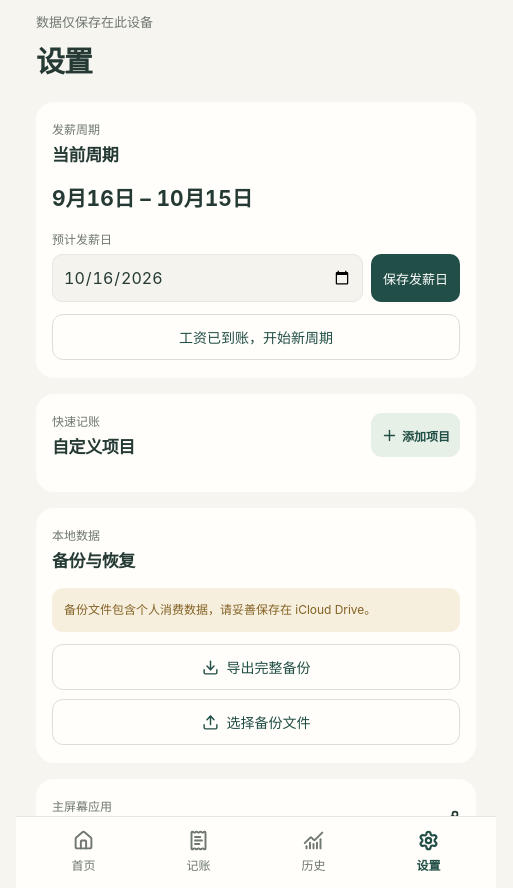
Test: edits the expected payday and opens an early new-cycle form
Expected: the heading "设置" is shown, [36, 44, 92, 79]
Expected: the text "9月16日 – 10月15日" is shown, [52, 186, 253, 211]
In the date field labelled "预计发薪日": (208, 278) [52, 254, 363, 302], type "2026-10-18"
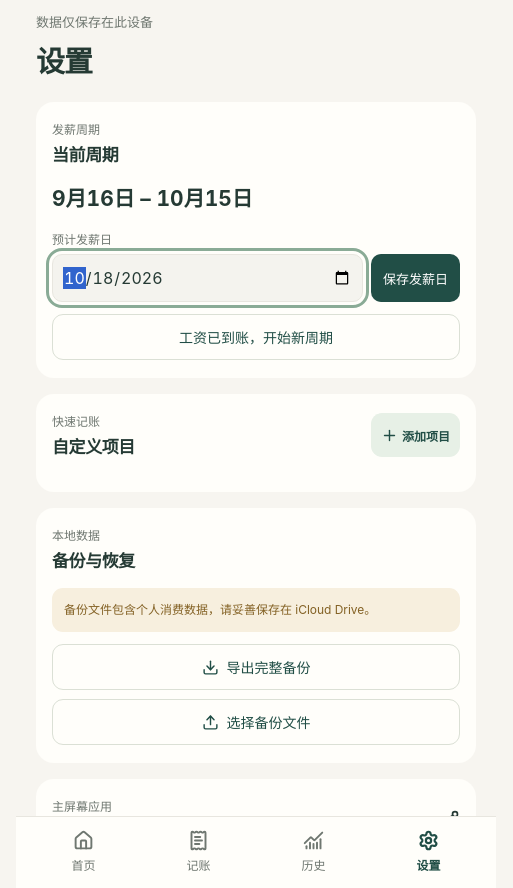
Click the button "保存发薪日": click(416, 278) [371, 254, 460, 302]
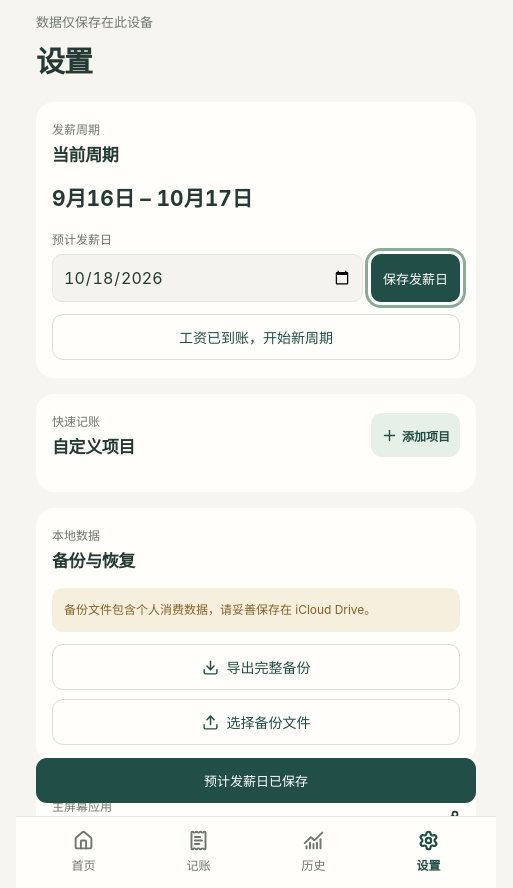
Click the button "工资已到账，开始新周期": click(256, 337) [52, 314, 460, 360]
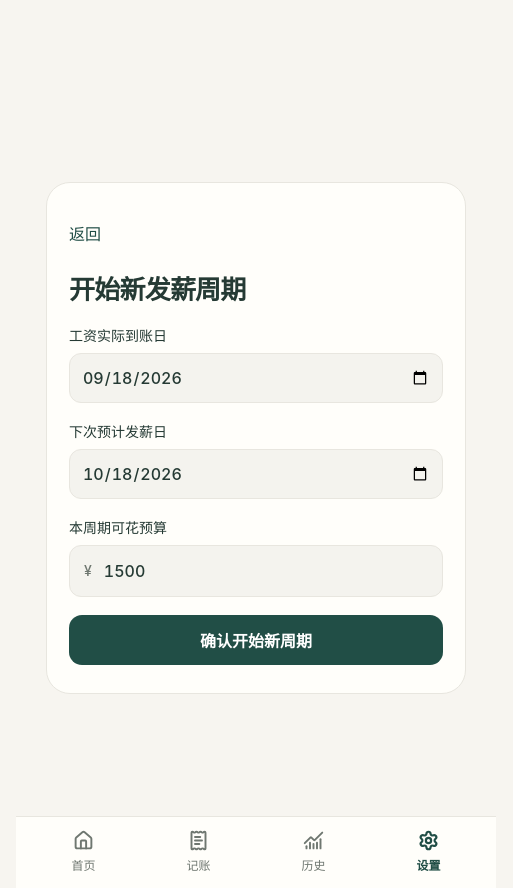
Expected: the heading "开始新发薪周期" is shown, [69, 274, 246, 305]
In the date field labelled "下次预计发薪日": (256, 474) [69, 449, 443, 499], type "2026-10-20"
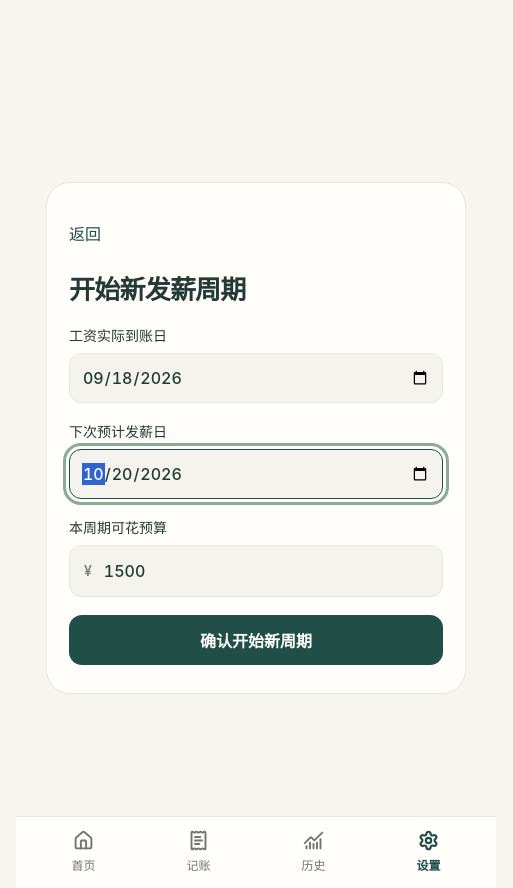
Click the button "确认开始新周期": click(256, 640) [69, 615, 443, 665]
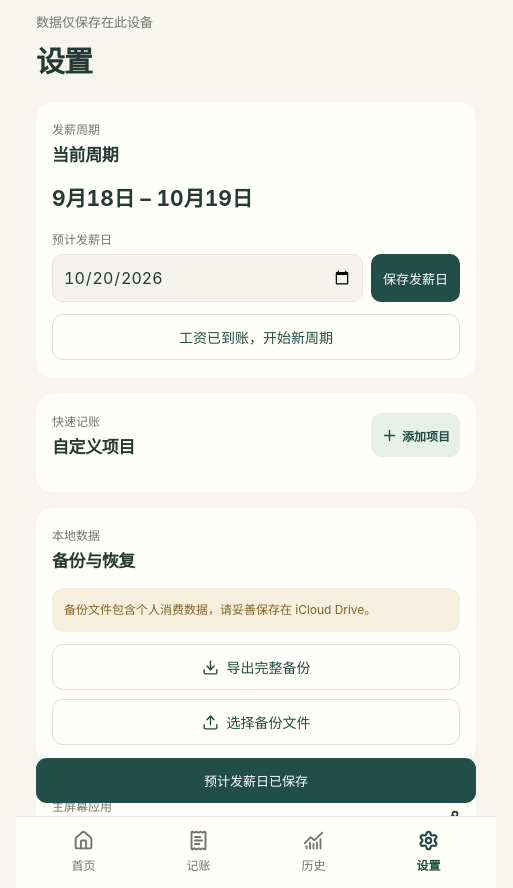
Expected: the heading "设置" is shown, [36, 44, 92, 79]
Expected: the date field labelled "预计发薪日" holds "2026-10-20", [52, 254, 363, 302]
